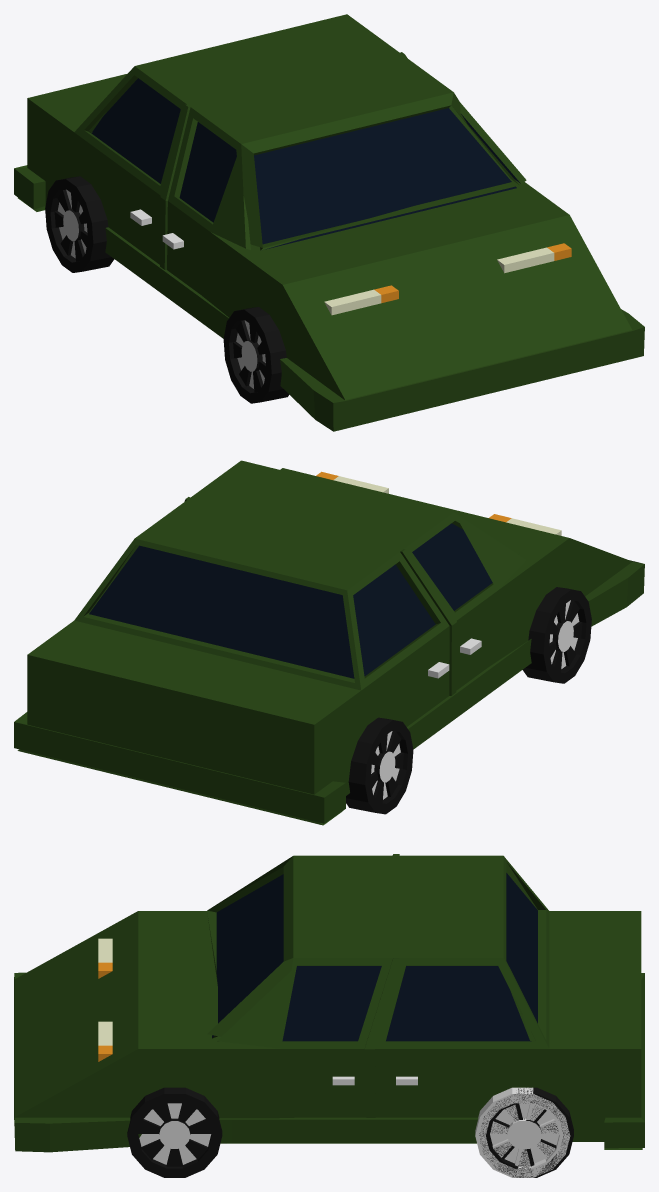
Rendered from greenCar.glb.
The picture shows the model from 3 angles, top to bottom: view 1: azimuth 30°, elevation 25°; view 2: azimuth 150°, elevation 25°; view 3: azimuth 270°, elevation 25°; orthographic projection.
Visible parts, largest first — view 1: Cube, Cylinder.006, Cylinder.005, Cube.001, Cube.004; view 2: Cube, Cylinder.006, Cylinder.005; view 3: Cube, Cylinder.001, Cylinder.003, Cylinder.004, Cube.001, Cube.004.
Part boxes in pixels (box(x1,y1,x2,y2)): Cube: box(14, 14, 644, 431); Cylinder.006: box(45, 176, 114, 272); Cylinder.005: box(223, 307, 289, 403); Cube.001: box(497, 243, 571, 273); Cube.004: box(324, 285, 398, 315); Cube: box(14, 460, 644, 825); Cylinder.006: box(346, 717, 413, 814); Cylinder.005: box(523, 587, 591, 683); Cube: box(14, 854, 644, 1152); Cylinder.001: box(127, 1087, 222, 1177); Cylinder.003: box(475, 1087, 570, 1177); Cylinder.004: box(479, 1087, 573, 1177); Cube.001: box(98, 1021, 112, 1061); Cube.004: box(98, 938, 112, 978).
Bounding box in the file's own units: 2.23 × 1.33 × 3.86.
